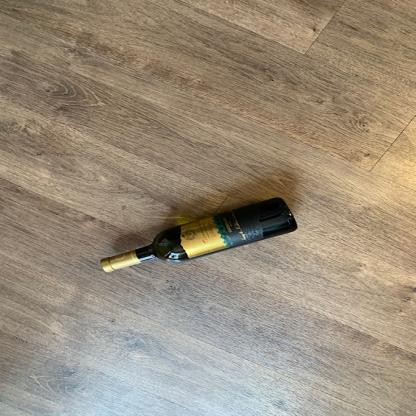trash: (94, 192, 302, 275)
